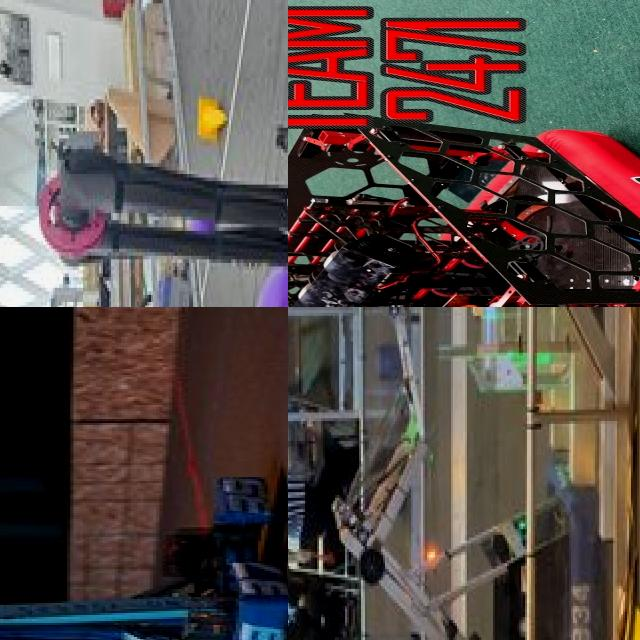FRC-Robots: (0, 0, 288, 307), (323, 365, 607, 640), (288, 109, 640, 307), (0, 449, 288, 640)
